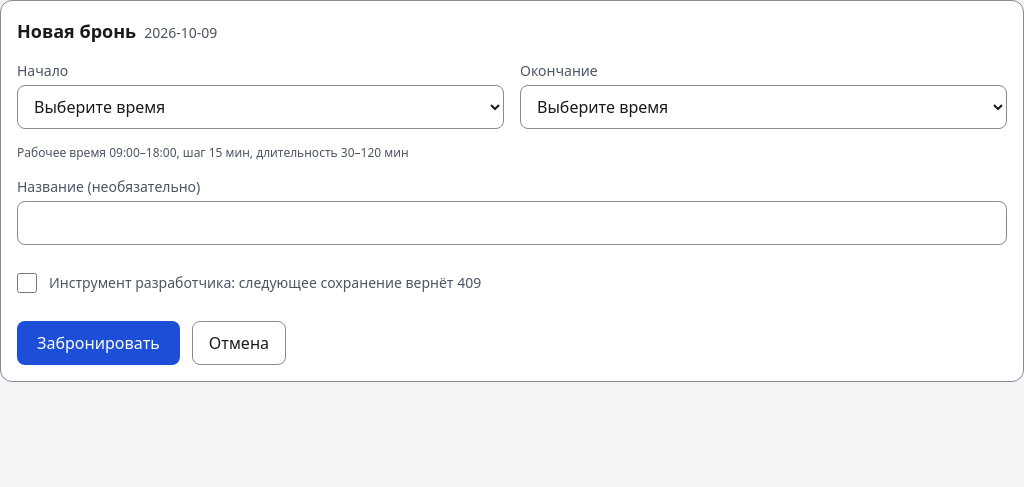
Test case: BookingForm server errors › 422 on start shows the start message
The image size is (1024, 487).
Select "10:00" in the dropdown labelled "Начало" at (260, 107), box [17,85,504,129]
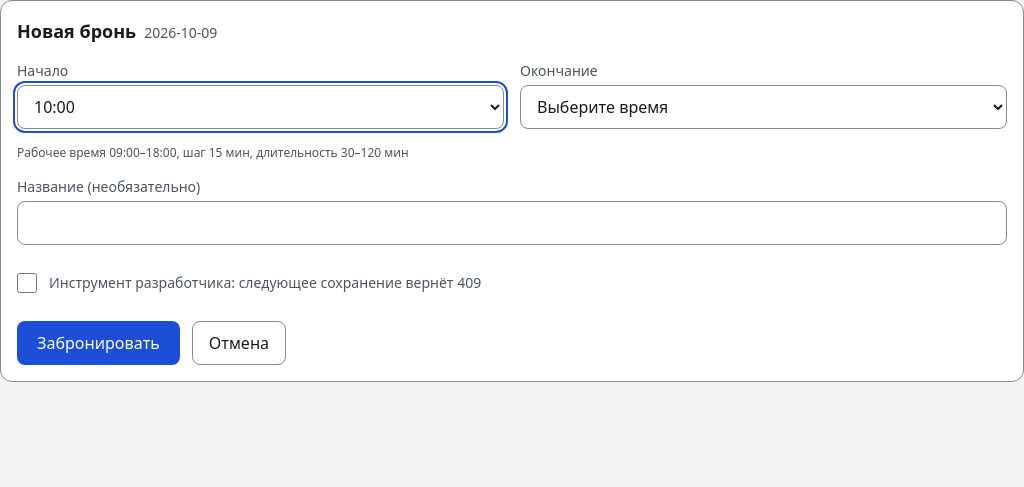
Select "11:00" in the dropdown labelled "Окончание" at (764, 107), box [520,85,1007,129]
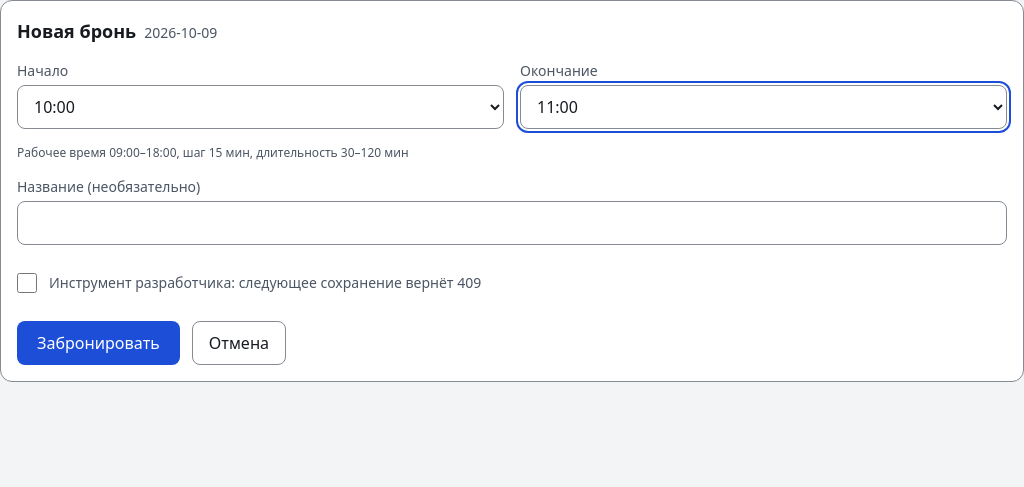
Click the button "Забронировать" at (98, 343), box [17,321,180,365]
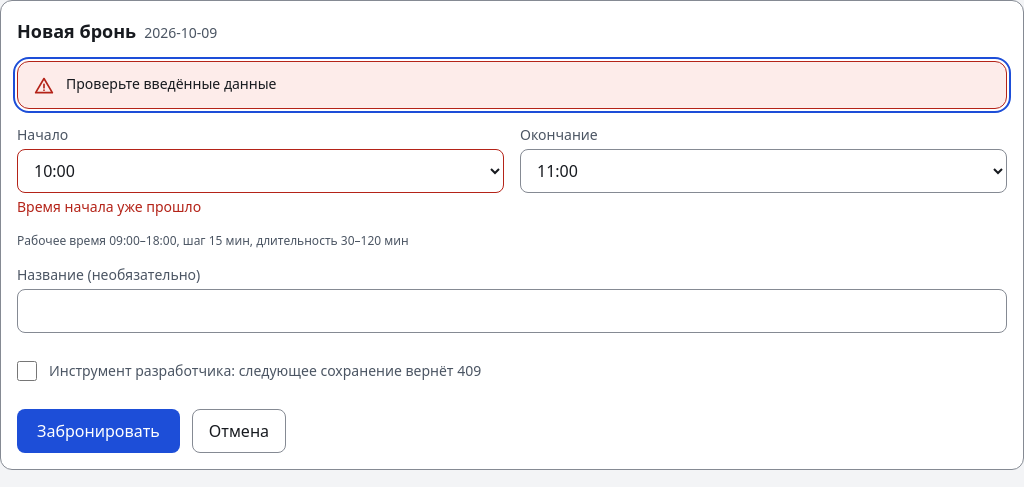
Now the text "Время начала уже прошло" is shown, box [17,197,201,216]
